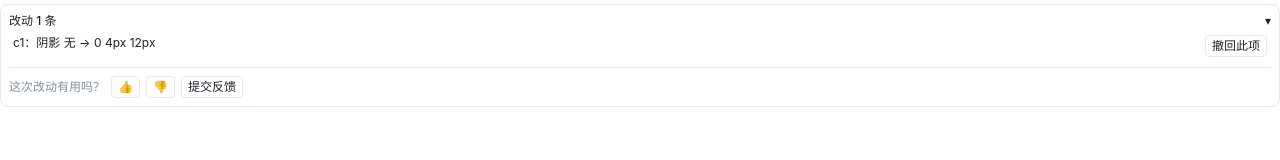
Test: 反馈闭环（T51 批2） › 提交失败 → **不置灰**、保留选择、可重试
The width and height of the screenshot is (1280, 160).
Click the button with test id "feedback-down".
click(160, 87)  # box [146,76,175,98]
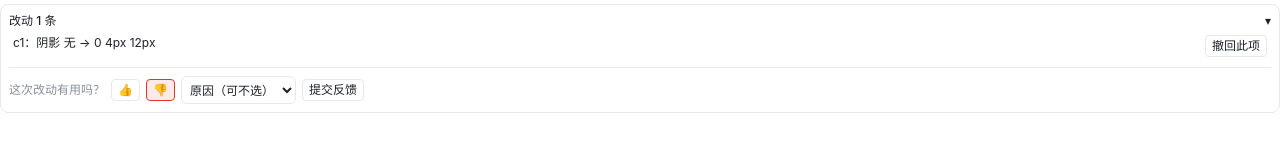
Click the button with test id "feedback-submit".
click(333, 90)  # box [302,79,364,101]
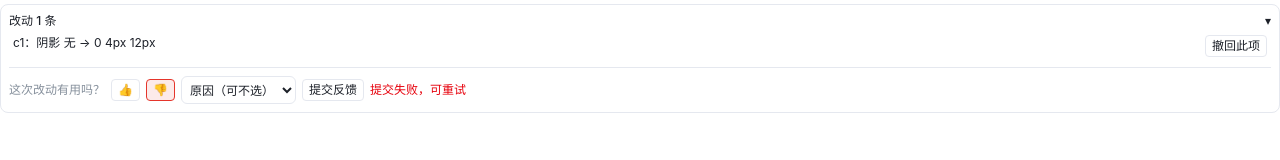
Now the text with test id "feedback-failed" reads "提交失败，可重试", box [370,82,466,97]
Click the button with test id "feedback-submit".
click(333, 90)  # box [302,79,364,101]
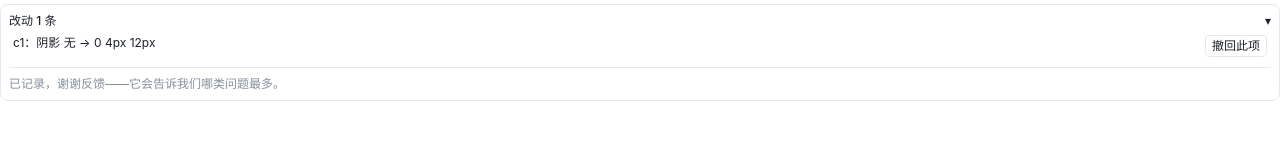
Now the text "已记录，谢谢反馈——它会告诉我们哪类问题最多。" is shown, box [9,67,1271,92]
